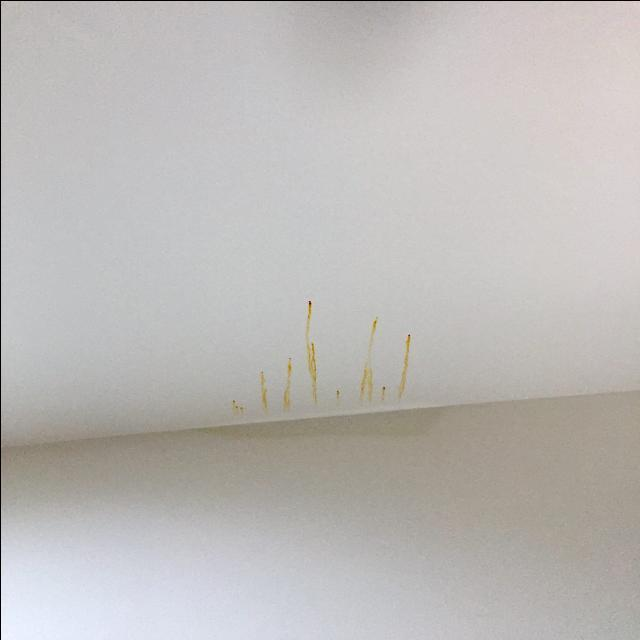leak: (206, 408, 439, 449)
